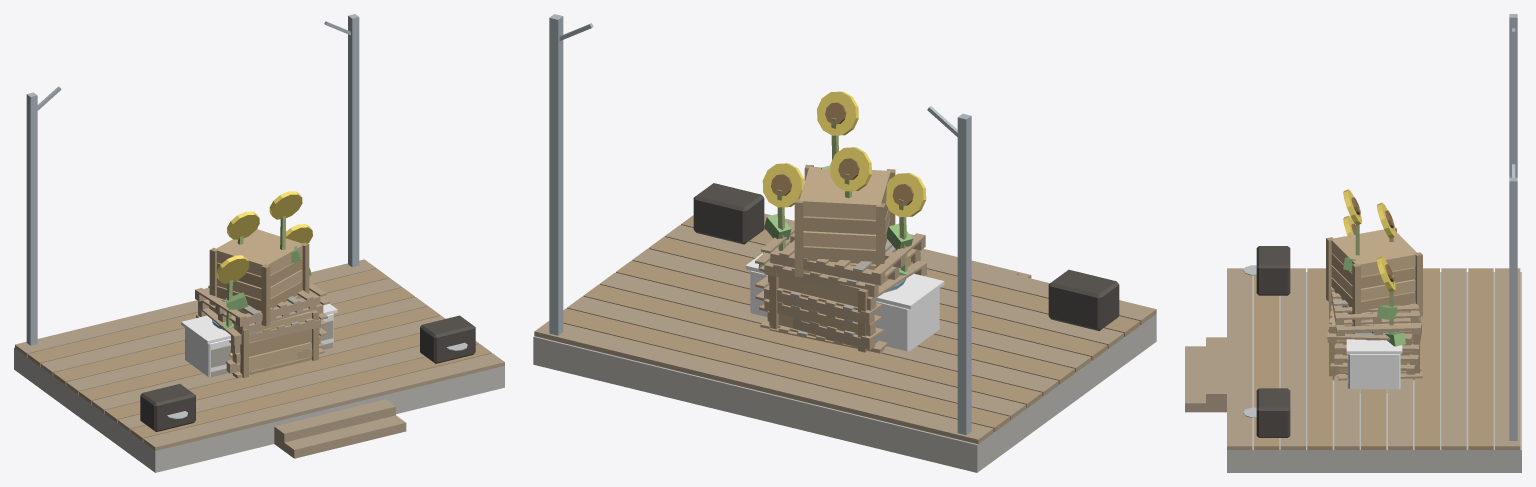
File: pearl_plaza.glb
3 views of the same model, side by side, from view 1: azimuth 30°, elevation 25°; view 2: azimuth 150°, elevation 25°; view 3: azimuth 270°, elevation 25° (orthographic). The views are drawn at different scales.
Parts seen in each view (by area): view 1: pp_stage_mesh, pp_crates_mesh, pp_pallets_mesh, pp_bed_mesh, pp_dresser_paint_mesh, pp_dresser_trim_mesh; view 2: pp_stage_mesh, pp_crates_mesh, pp_pallets_mesh, pp_bed_mesh, pp_dresser_paint_mesh; view 3: pp_stage_mesh, pp_crates_mesh, pp_pallets_mesh, pp_dresser_paint_mesh, pp_bed_mesh.
Boxes of the visible parts, left/top/right/bottom form: pp_stage_mesh: left=14, top=14, right=504, bottom=472; pp_crates_mesh: left=209, top=228, right=318, bottom=377; pp_pallets_mesh: left=195, top=282, right=330, bottom=378; pp_bed_mesh: left=216, top=191, right=312, bottom=330; pp_dresser_paint_mesh: left=181, top=303, right=337, bottom=377; pp_dresser_trim_mesh: left=211, top=320, right=333, bottom=377; pp_stage_mesh: left=533, top=14, right=1156, bottom=472; pp_crates_mesh: left=769, top=164, right=920, bottom=352; pp_pallets_mesh: left=755, top=220, right=926, bottom=353; pp_bed_mesh: left=758, top=91, right=926, bottom=280; pp_dresser_paint_mesh: left=745, top=243, right=944, bottom=351; pp_stage_mesh: left=1185, top=14, right=1521, bottom=472; pp_crates_mesh: left=1326, top=226, right=1422, bottom=380; pp_pallets_mesh: left=1327, top=287, right=1422, bottom=380; pp_dresser_paint_mesh: left=1346, top=339, right=1402, bottom=392; pp_bed_mesh: left=1343, top=189, right=1405, bottom=346.
Bounding box in the file's own units: 5 × 3.77 × 4.
